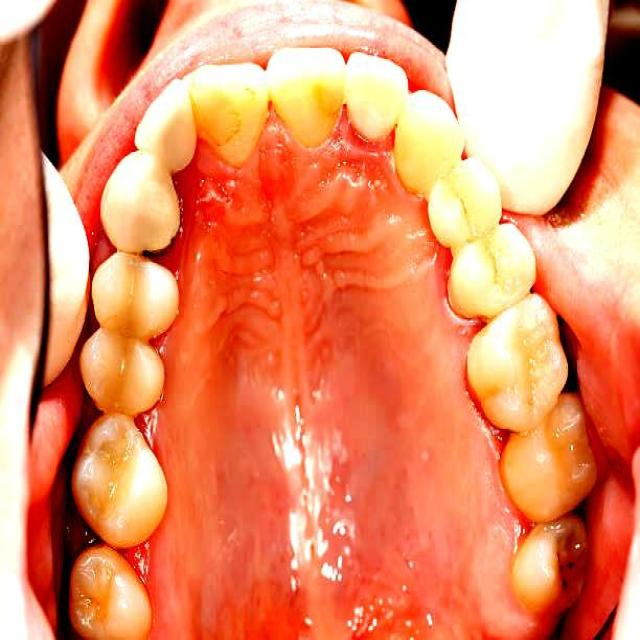caries: (542, 526, 593, 610)
